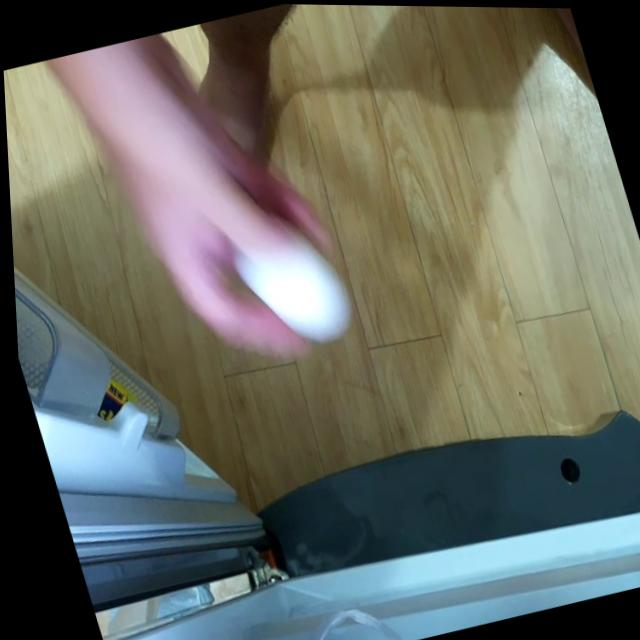egg: (232, 223, 354, 355)
